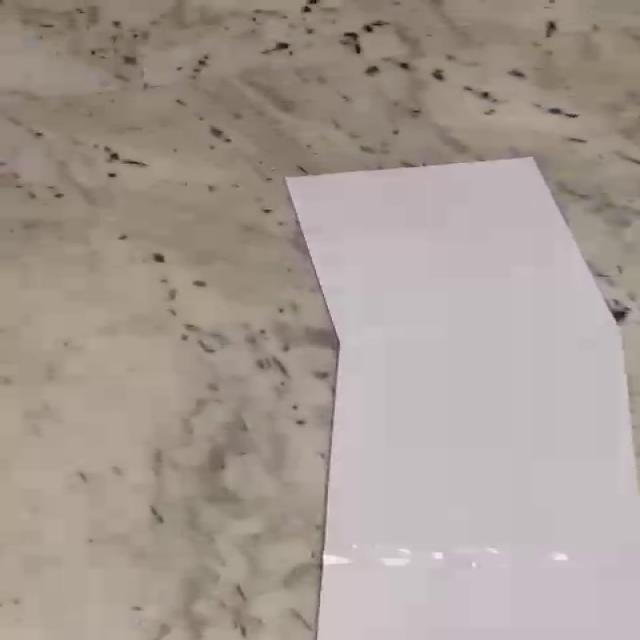road: (287, 157, 639, 640)
